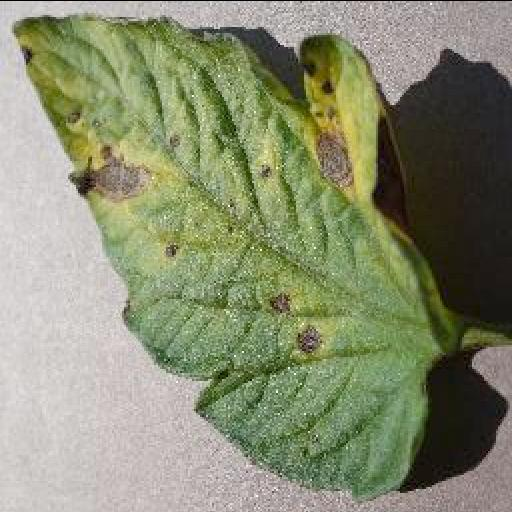disease_tomato: (10, 14, 460, 500)
